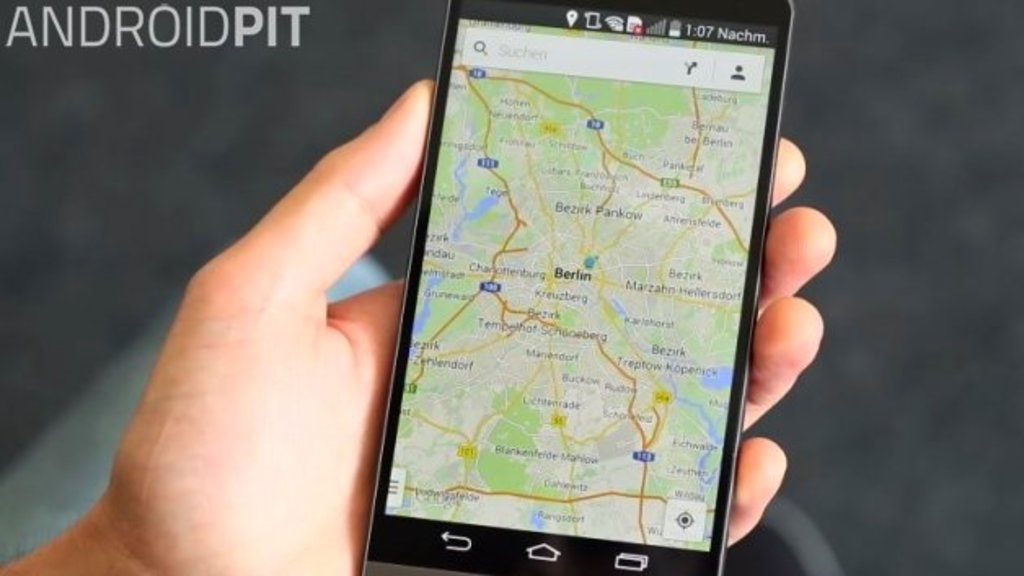Mobile-phone: (358, 0, 794, 576)
